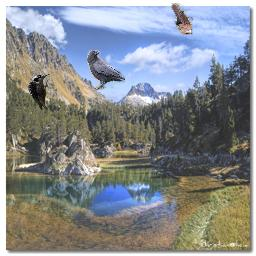Crow: (87, 50, 125, 90)
Cuckoo: (171, 3, 193, 35)
Woodpecker: (26, 72, 51, 112)
